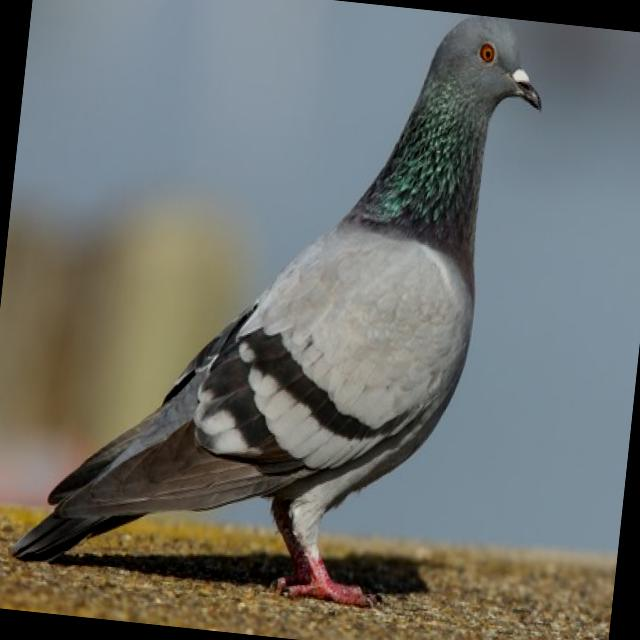bird: (9, 0, 557, 625)
